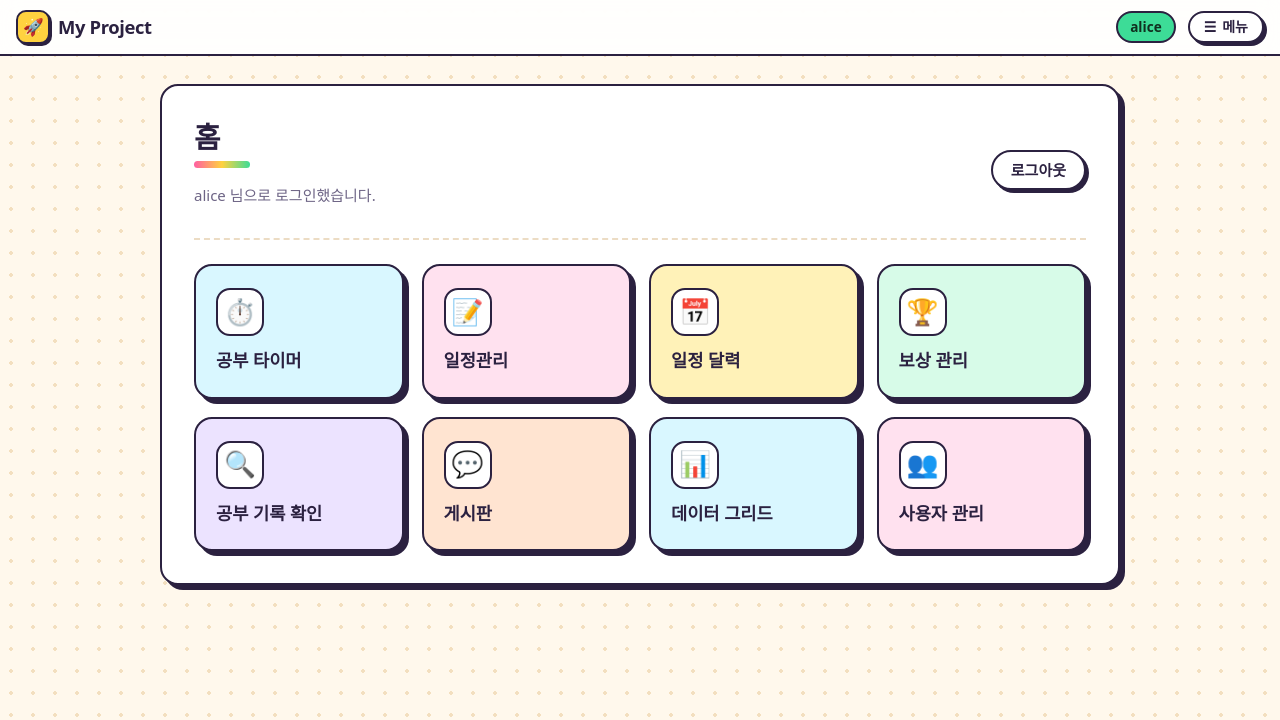
Test case: AppHeader › lists admin screens for ADMIN and names rewards for managers
The width and height of the screenshot is (1280, 720).
Click the button "☰ 메뉴".
click(1226, 27)  # box 1188,11 -> 1264,43
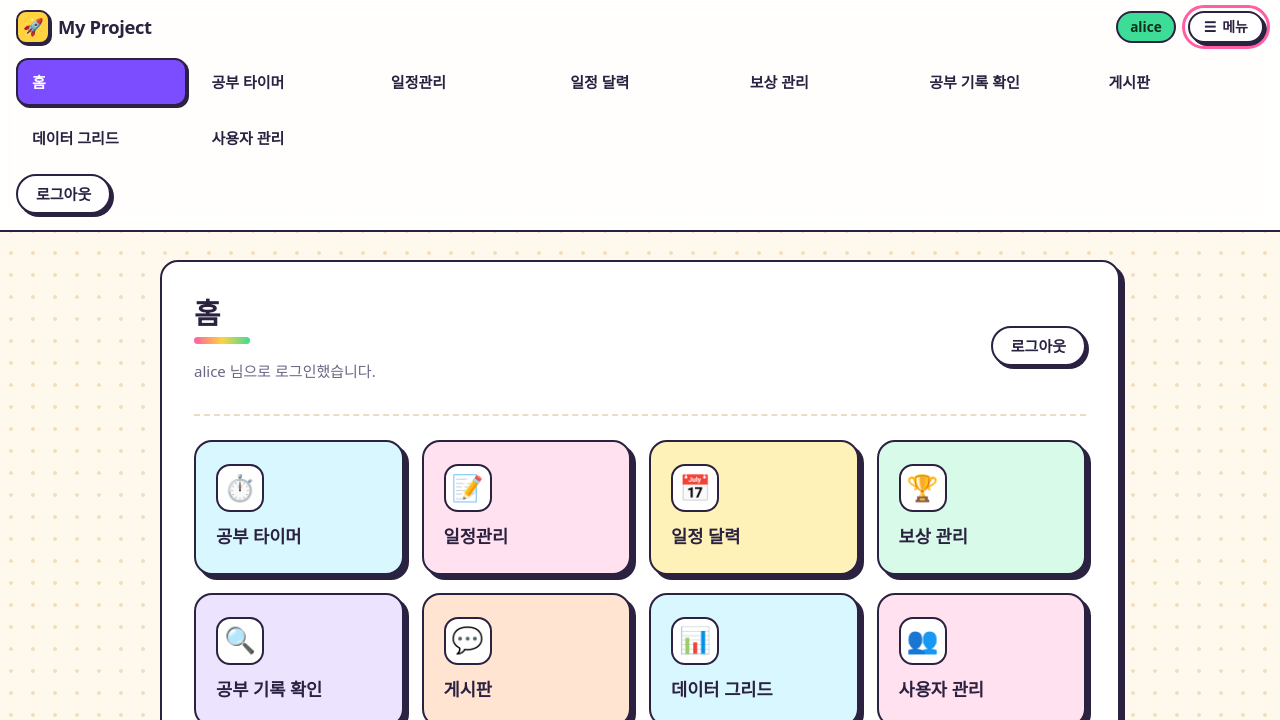
Check: the link "사용자 관리" below "My Project" is shown, box 211,128 -> 284,148
Check: the 1st link "보상 관리" is shown, box 750,72 -> 809,92
